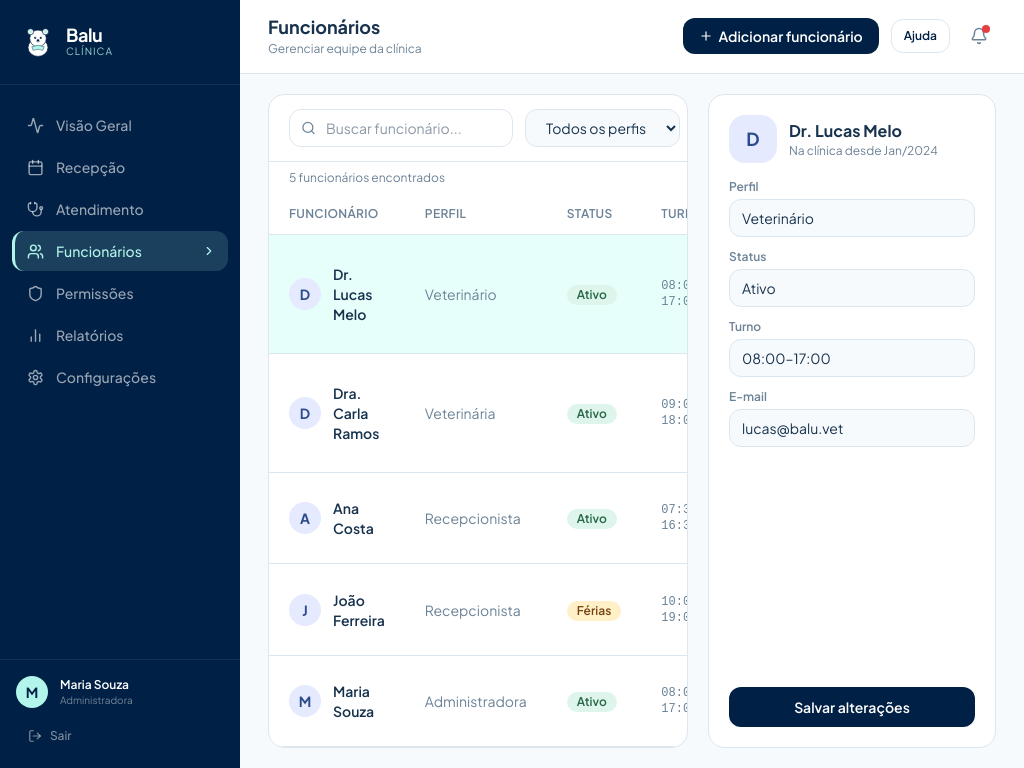
Scenario: filtra funcionários por nome e informa a quantidade
Type "Ana" into the field with placeholder "Buscar funcionário..." at [401, 128], box [289,108,513,146]
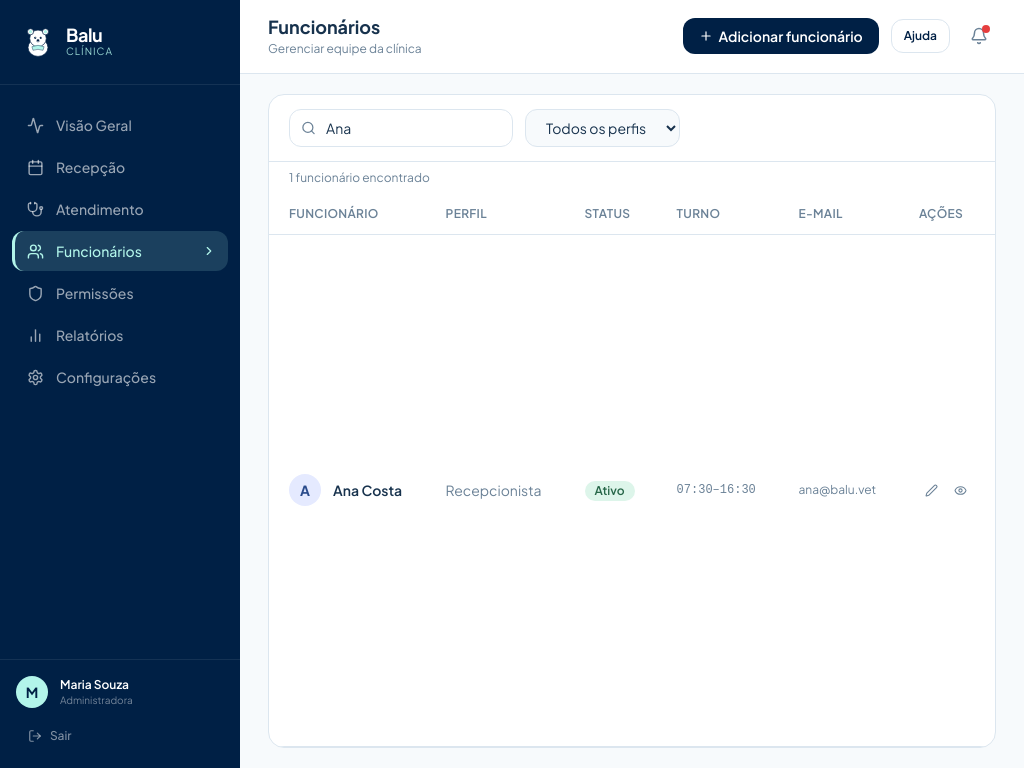
expect the text "Ana Costa" is shown: met, box [333,480,402,500]
expect the text "1 funcionário encontrado" is shown: met, box [289,170,430,184]
expect the text "Dr. Lucas Melo" is gone: met
